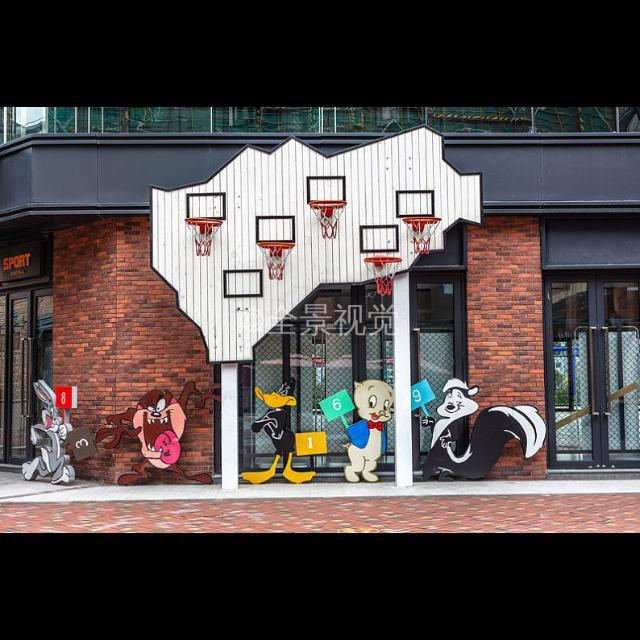rim: (366, 256, 402, 296), (404, 218, 442, 255), (186, 217, 222, 256), (259, 242, 295, 280), (310, 202, 346, 238)
